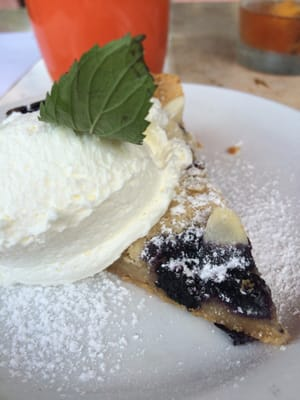pizza: (24, 0, 171, 81), (234, 0, 300, 74)
soup: (0, 25, 211, 302)
